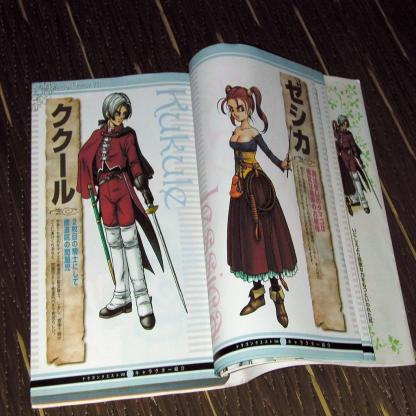book: (52, 56, 393, 405)
